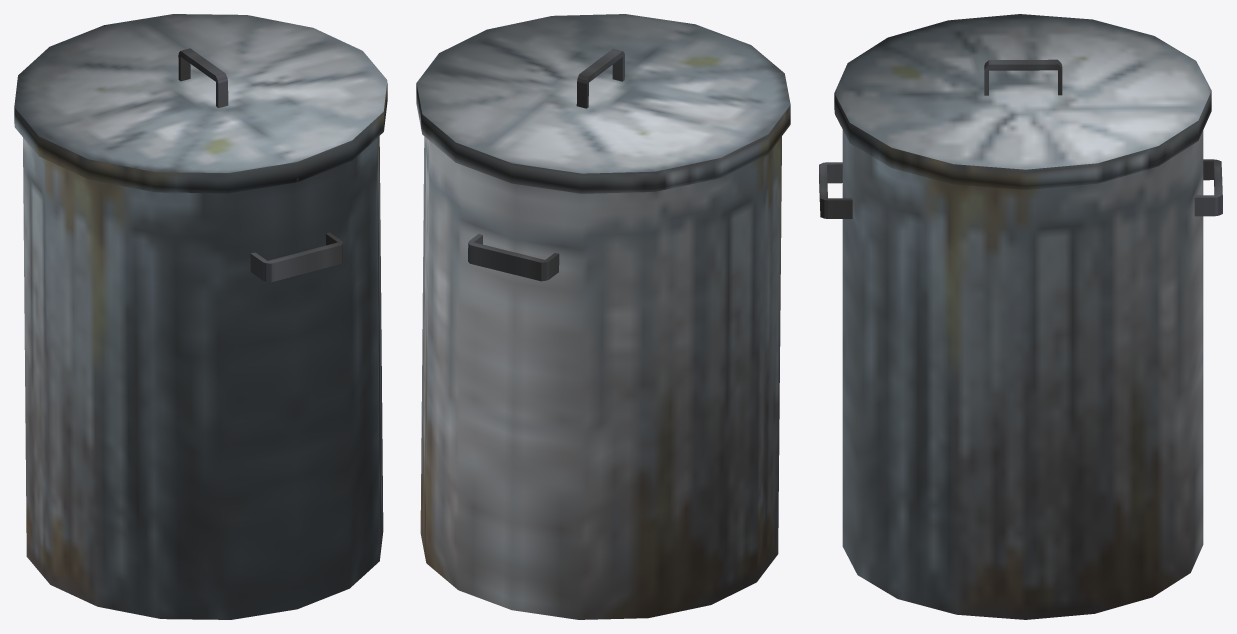
The model's file is W_MGCan.fbx.
3 views of the same model, side by side, from view 1: azimuth 30°, elevation 25°; view 2: azimuth 150°, elevation 25°; view 3: azimuth 270°, elevation 25° (orthographic).
Visible parts, largest first — view 1: Cylinder; view 2: Cylinder; view 3: Cylinder.
Boxes of the visible parts, box(x1,y1,x2,y2) form: Cylinder: box(14, 14, 387, 619); Cylinder: box(416, 14, 790, 619); Cylinder: box(819, 14, 1222, 619).
Bounding box in the file's own units: 0.3433 × 0.4858 × 0.367.
